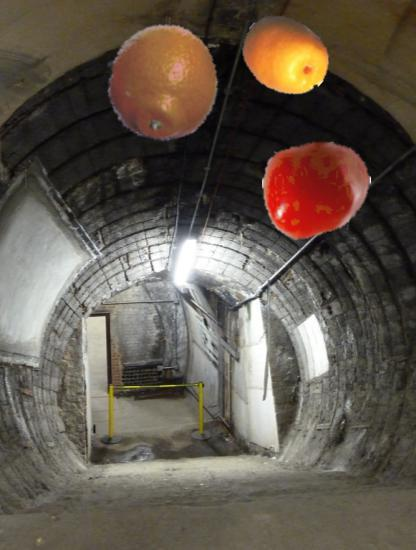Kumquats: (240, 10, 331, 101)
Tangelo: (101, 22, 221, 142)
Tomato: (262, 136, 372, 246)
